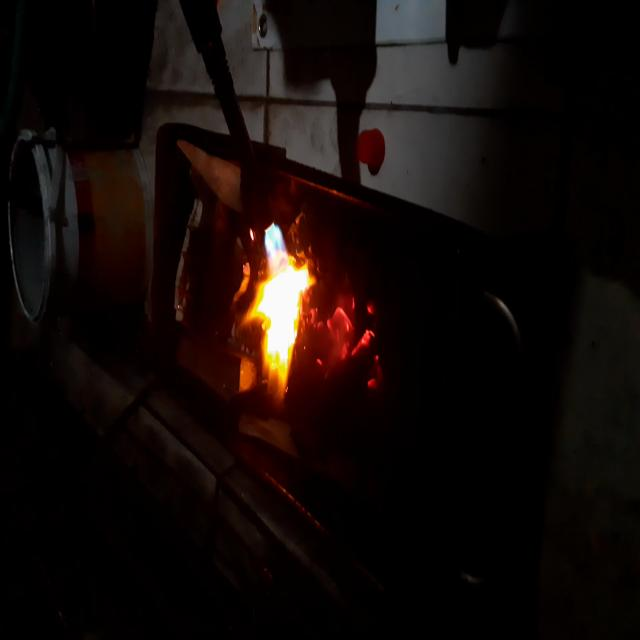Fire: (248, 209, 315, 409), (317, 279, 388, 402)
